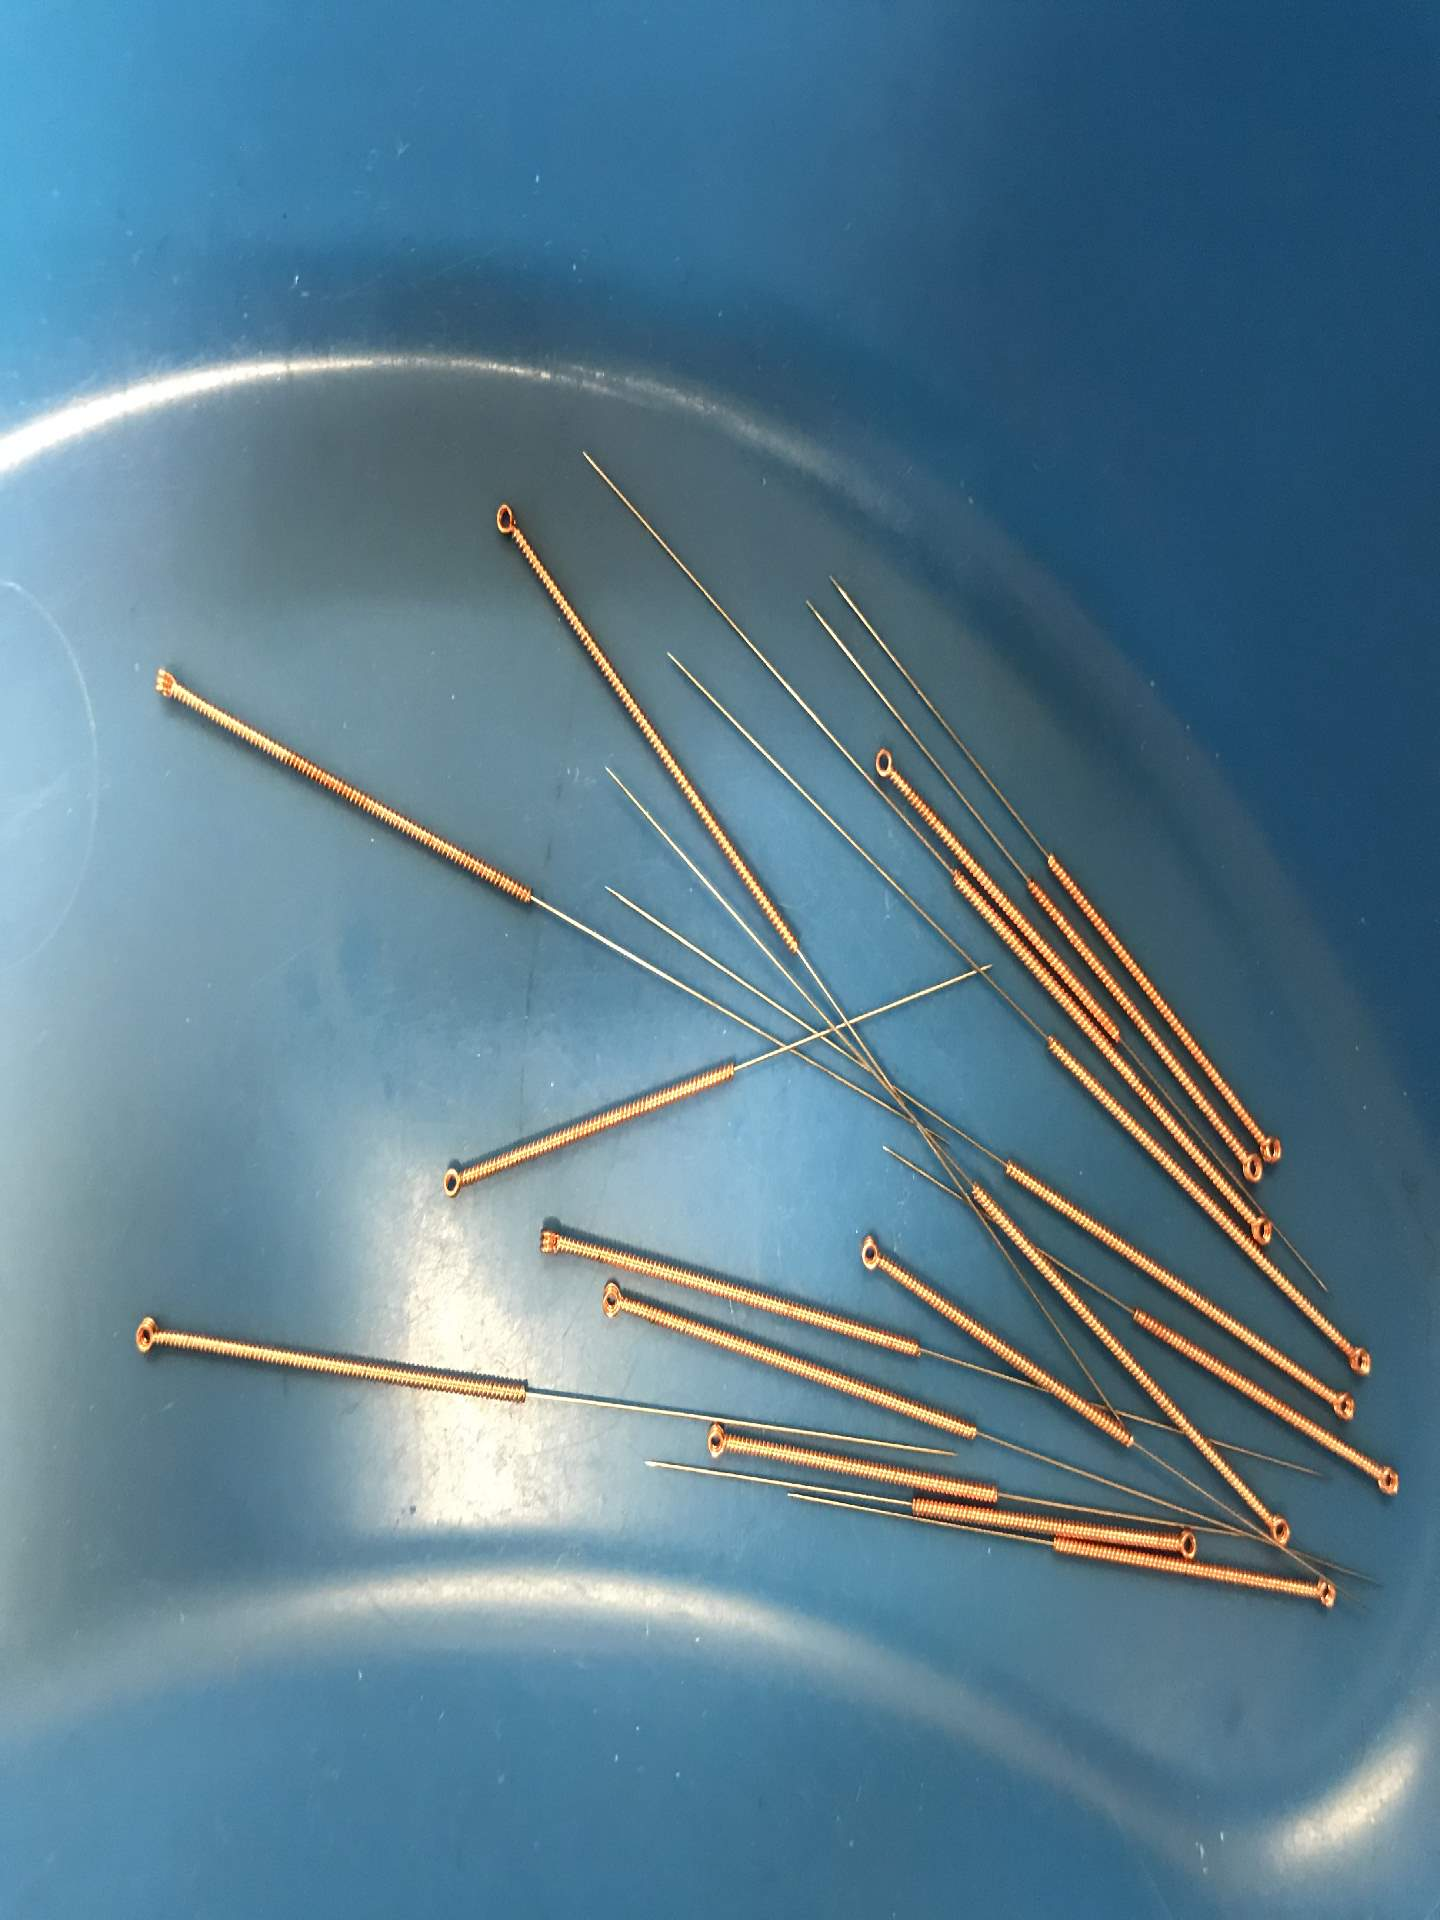needle: (119, 1306, 172, 1367), (141, 658, 191, 711), (849, 1228, 894, 1284), (691, 1417, 738, 1468), (430, 1157, 473, 1211), (588, 1273, 632, 1327), (483, 493, 525, 547), (1336, 1333, 1379, 1385), (526, 1219, 572, 1267), (1364, 1456, 1407, 1506), (867, 738, 905, 791), (1324, 1380, 1366, 1427), (1260, 1503, 1296, 1553), (1302, 1572, 1345, 1615), (1166, 1522, 1203, 1565), (1246, 1205, 1280, 1250), (1231, 1147, 1265, 1188), (1258, 1125, 1289, 1167)
